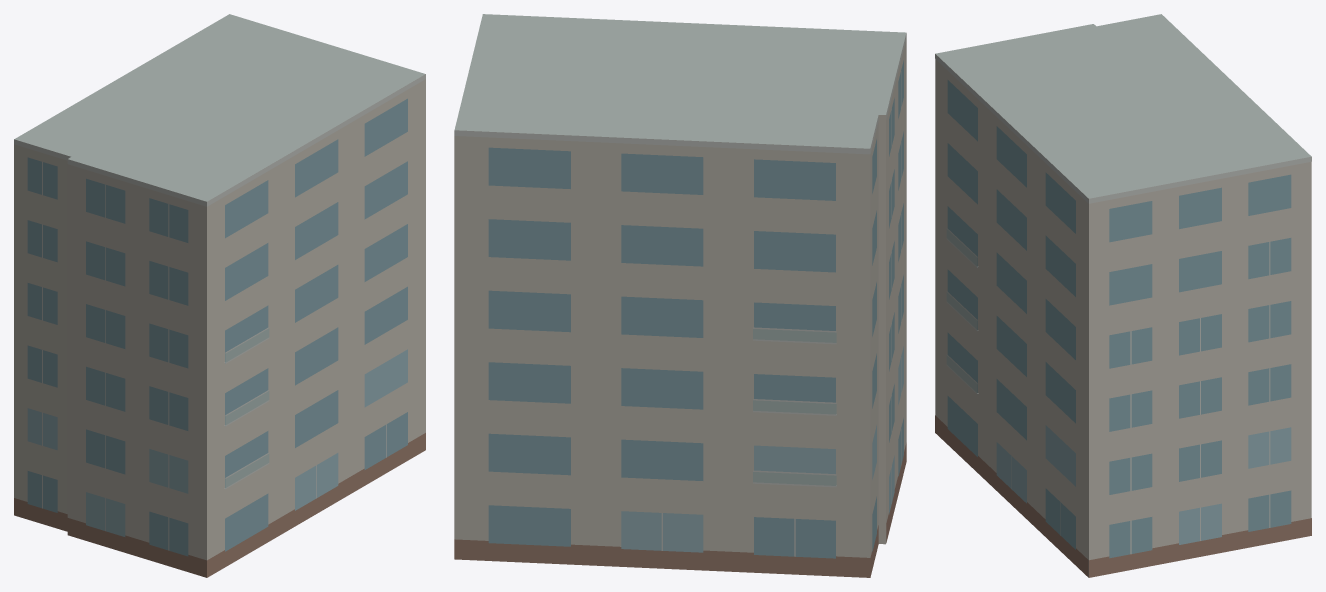
Rendered from survey-upis-32529637.glb.
3 renders of one model, left to right at view 1: azimuth 30°, elevation 25°; view 2: azimuth 150°, elevation 25°; view 3: azimuth 270°, elevation 25°, orthographic. The views are drawn at different scales.
Parts seen in each view (by area): view 1: survey-upis-32529637.tmp; view 2: survey-upis-32529637.tmp; view 3: survey-upis-32529637.tmp.
Part boxes in pixels (x1,y1,x2,y2): survey-upis-32529637.tmp: (14, 14, 425, 577); survey-upis-32529637.tmp: (454, 14, 906, 577); survey-upis-32529637.tmp: (935, 14, 1311, 577).
Size of the model in its own units: 19.14 by 18.3 by 16.49.
